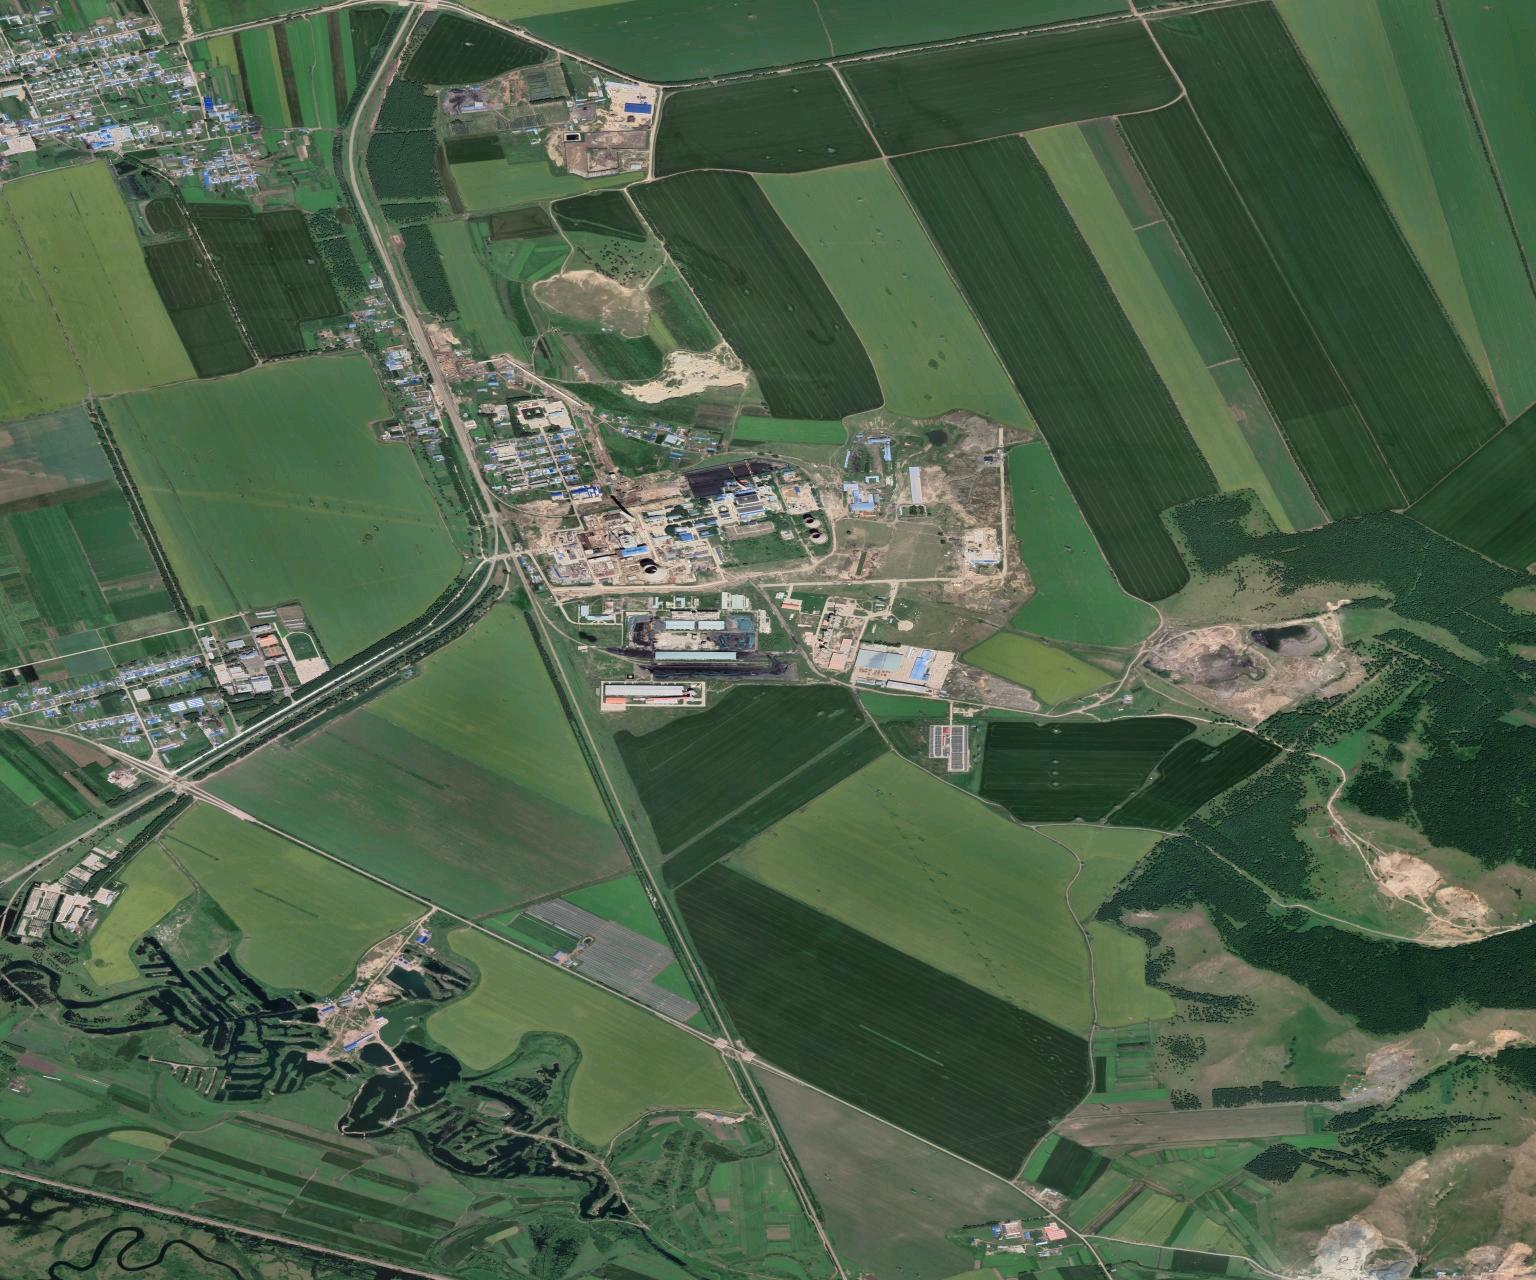coal_fired_power_plant: (601, 456, 831, 583)
